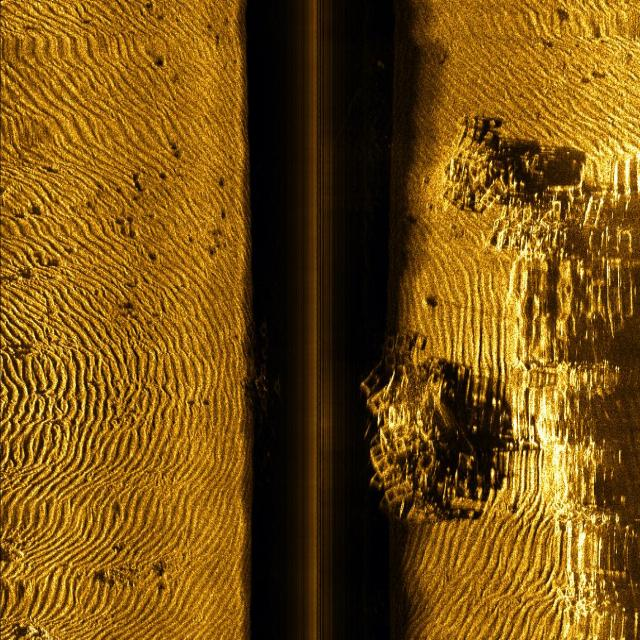artificial reef: (363, 309, 479, 519), (446, 121, 584, 262), (248, 301, 284, 444)
